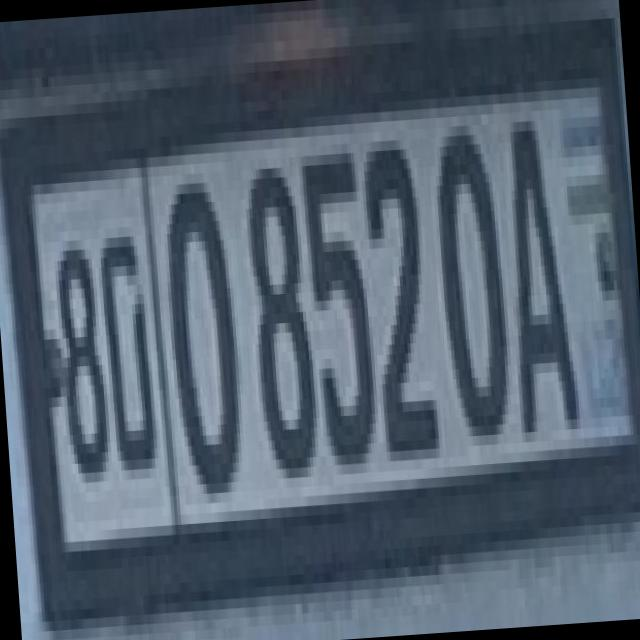0: (145, 142, 250, 486), (414, 94, 516, 448), (82, 206, 158, 472)
2: (348, 119, 446, 452)
5: (292, 114, 374, 456)
8: (226, 137, 320, 471), (36, 220, 108, 466)
A: (486, 90, 580, 433)
